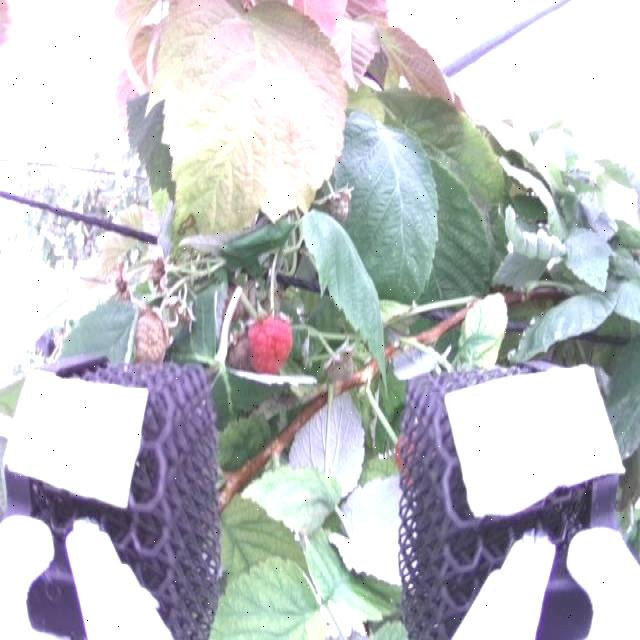Riped berries: (244, 301, 300, 376)
